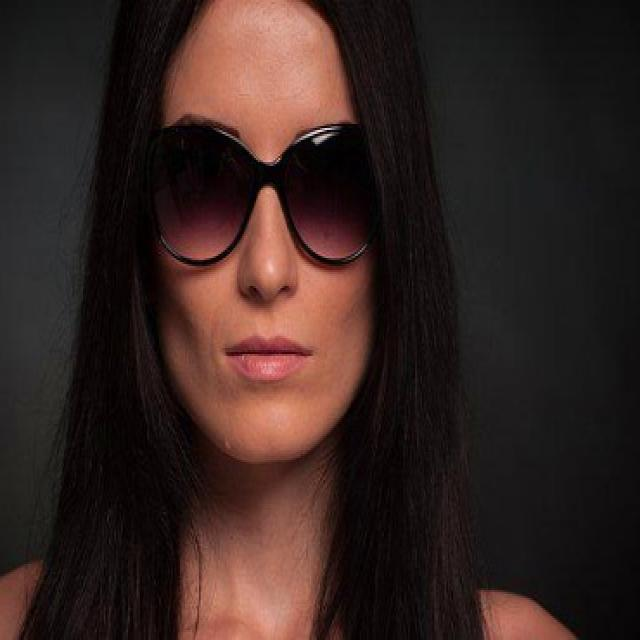adult: (40, 0, 469, 640)
